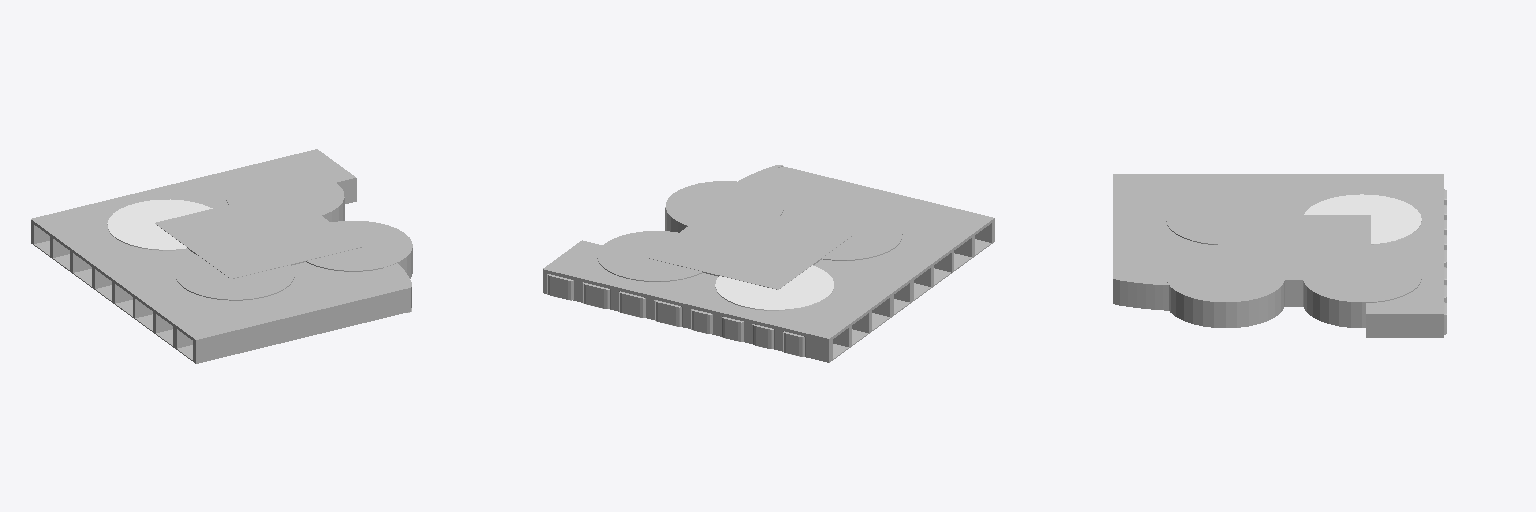
Rendered from floor1.obj.
The picture shows the model from 3 angles: view 1: azimuth 30°, elevation 25°; view 2: azimuth 150°, elevation 25°; view 3: azimuth 270°, elevation 25°; orthographic projection.
Parts seen in each view (by area): view 1: Cube_Cube.003, Cube.001_Cube.004, Cylinder.004, Cylinder.001, Cylinder.002, Cylinder.003; view 2: Cube_Cube.003, Cube.001_Cube.004, Cylinder.004, Cylinder.001, Cylinder.003, Cylinder.002; view 3: Cube_Cube.003, Cube.001_Cube.004, Cylinder.004, Cylinder.001, Cylinder.002, Cylinder.003, Cube.002_Cube.005.
Part boxes in pixels (x1,y1,x2,y2): Cube_Cube.003: (31,149,410,363); Cube.001_Cube.004: (155,191,363,278); Cylinder.004: (306,221,412,278); Cylinder.001: (226,171,344,221); Cylinder.002: (176,255,294,300); Cylinder.003: (107,199,212,250); Cube_Cube.003: (543,166,994,362); Cube.001_Cube.004: (646,201,853,289); Cylinder.004: (665,181,783,232); Cylinder.001: (597,231,702,281); Cylinder.003: (715,265,833,310); Cylinder.002: (797,210,902,260); Cube_Cube.003: (1113,174,1446,337); Cube.001_Cube.004: (1218,215,1370,306); Cylinder.004: (1166,252,1284,327); Cylinder.001: (1303,252,1421,327); Cylinder.002: (1166,194,1283,244); Cylinder.003: (1304,194,1421,244); Cube.002_Cube.005: (1113,272,1168,310).
Size of the model in its own units: 9.71 by 0.86 by 9.8.